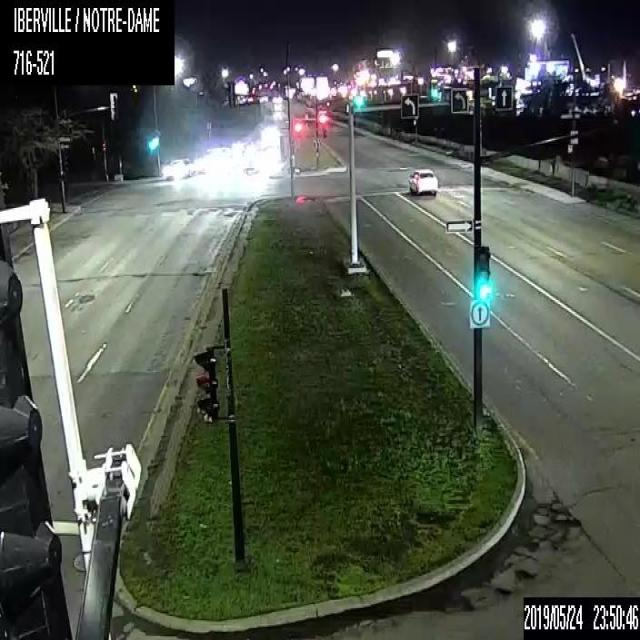vehicle: (407, 164, 438, 192), (160, 156, 191, 180)
